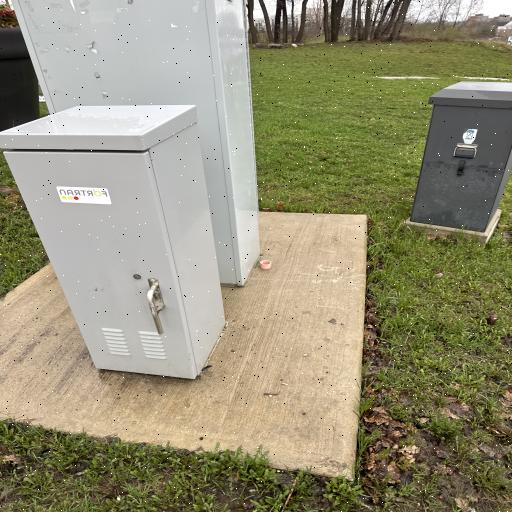Electrical Box: (1, 0, 264, 378), (407, 81, 511, 240)
